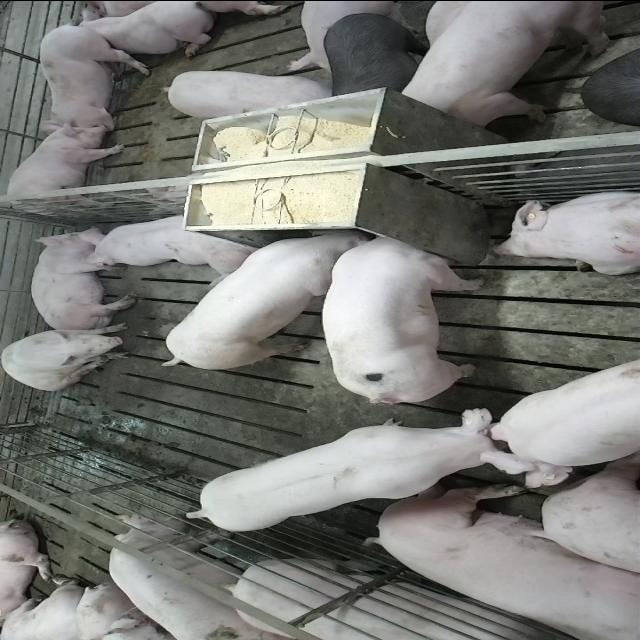Feeding: (160, 228, 368, 374), (322, 224, 488, 398)
Lateral_lying: (367, 481, 640, 636), (29, 224, 139, 332)
Sitting: (3, 326, 139, 390)
Standing: (188, 410, 532, 535), (219, 554, 609, 640), (394, 1, 624, 126), (102, 517, 288, 640), (485, 354, 640, 492), (36, 21, 152, 132), (4, 120, 130, 210), (160, 65, 332, 117), (322, 13, 424, 97)
Sternal_lying: (488, 187, 640, 275), (81, 208, 263, 272), (72, 1, 215, 56)
